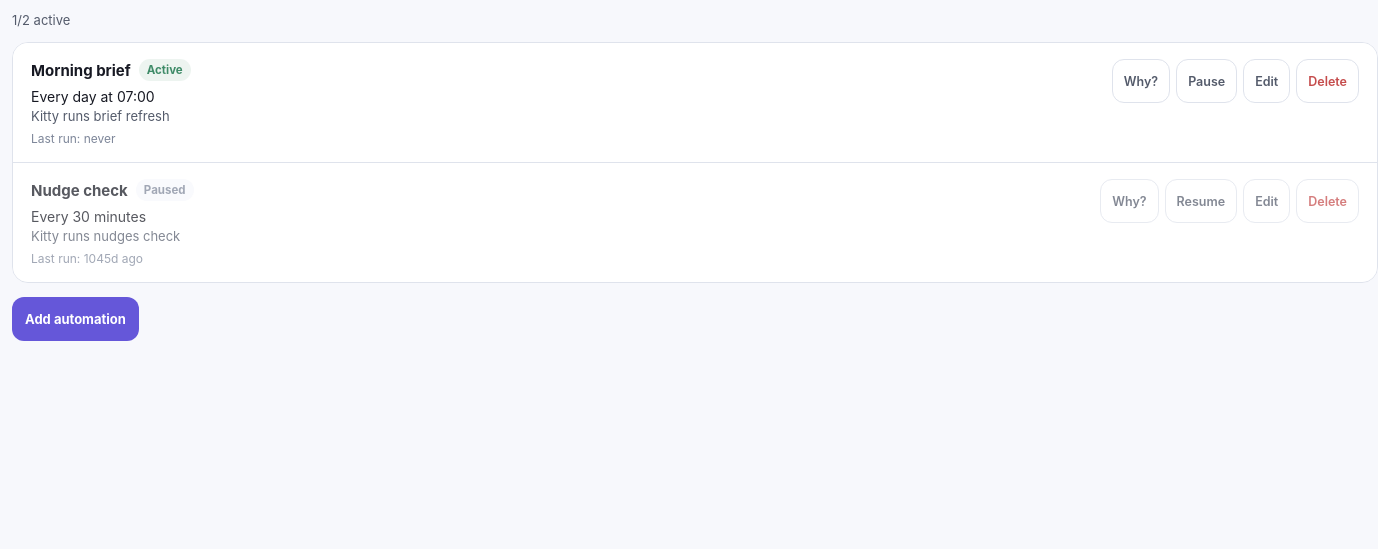
Scenario: CronPanel › offers an explicit safe retry for a failed run and reports the fresh run id
Expected: the text "Morning brief" is shown, [31,60,131,80]
Step 1. Click the button with aria-label "Why did Morning brief not run?" → (1141, 81), box [1112,59,1170,103]
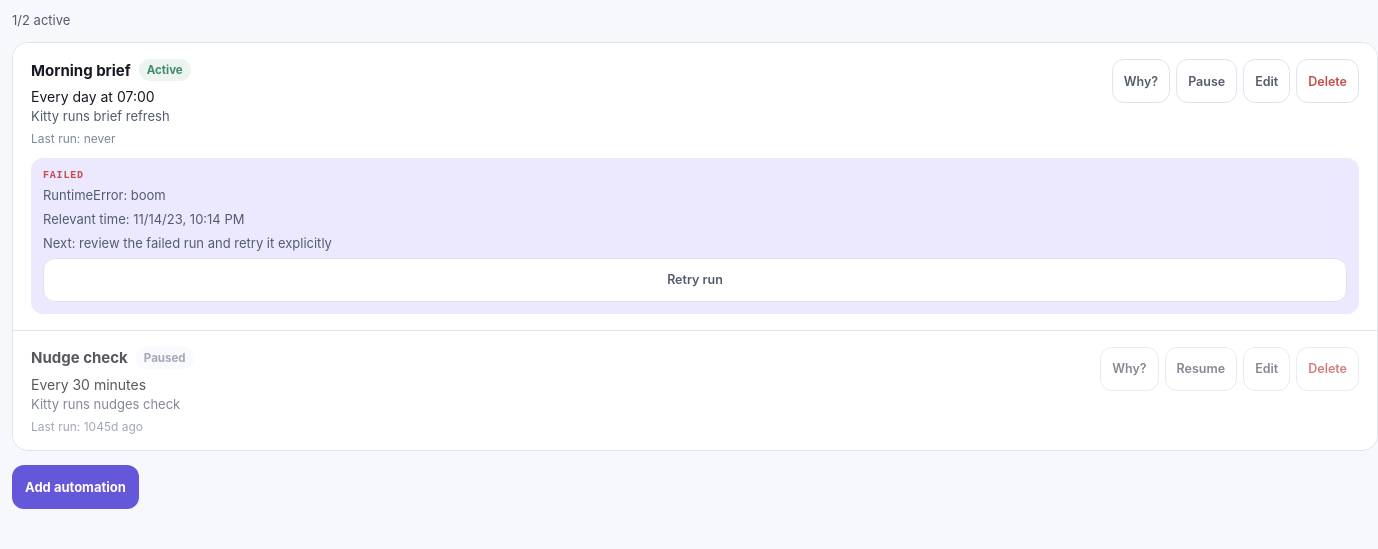
Step 2. Click the button with aria-label "Retry failed run" → (695, 280), box [43,258,1347,302]
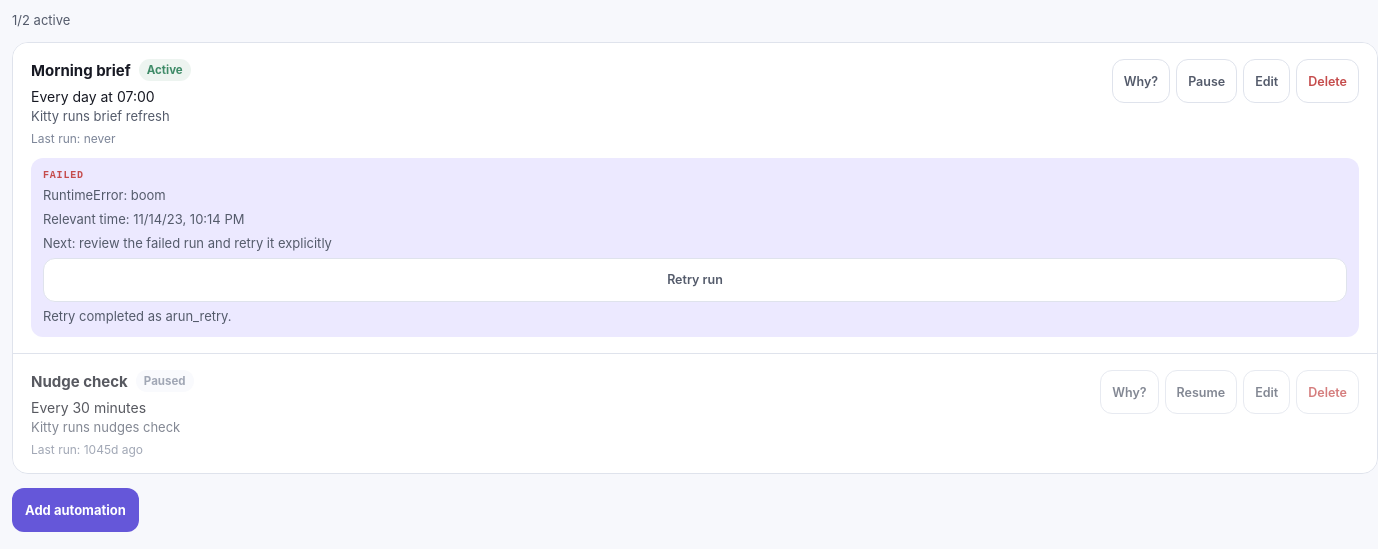
Expected: the text "Retry completed as arun_retry." is shown, [43,308,232,324]
